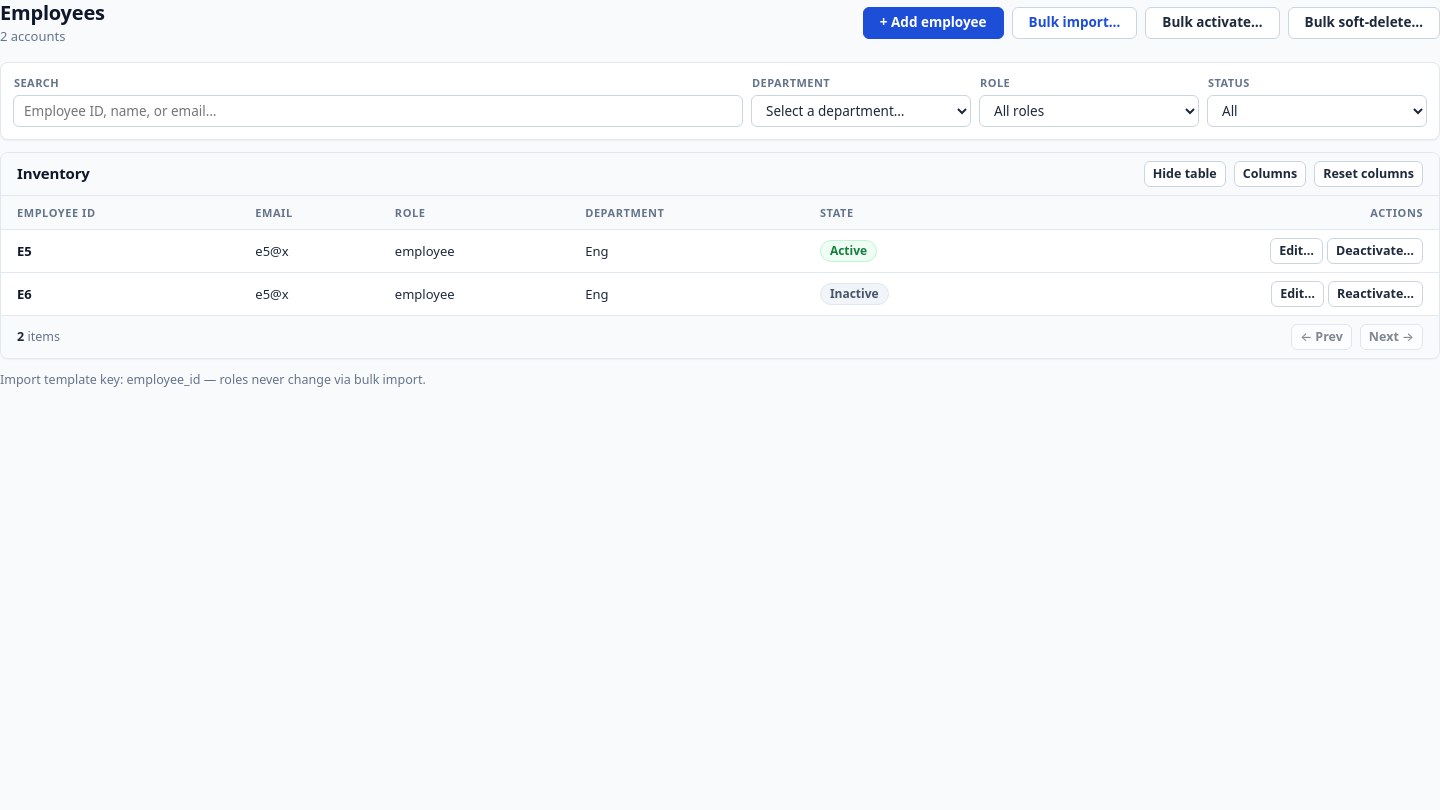
Users row actions › edits an employee from the prefilled modal and refreshes
The width and height of the screenshot is (1440, 810).
Check: the link "E5" is shown, box [17, 242, 32, 260]
Click the 1st button "Edit…" at coordinates (1296, 251), box [1270, 238, 1323, 264]
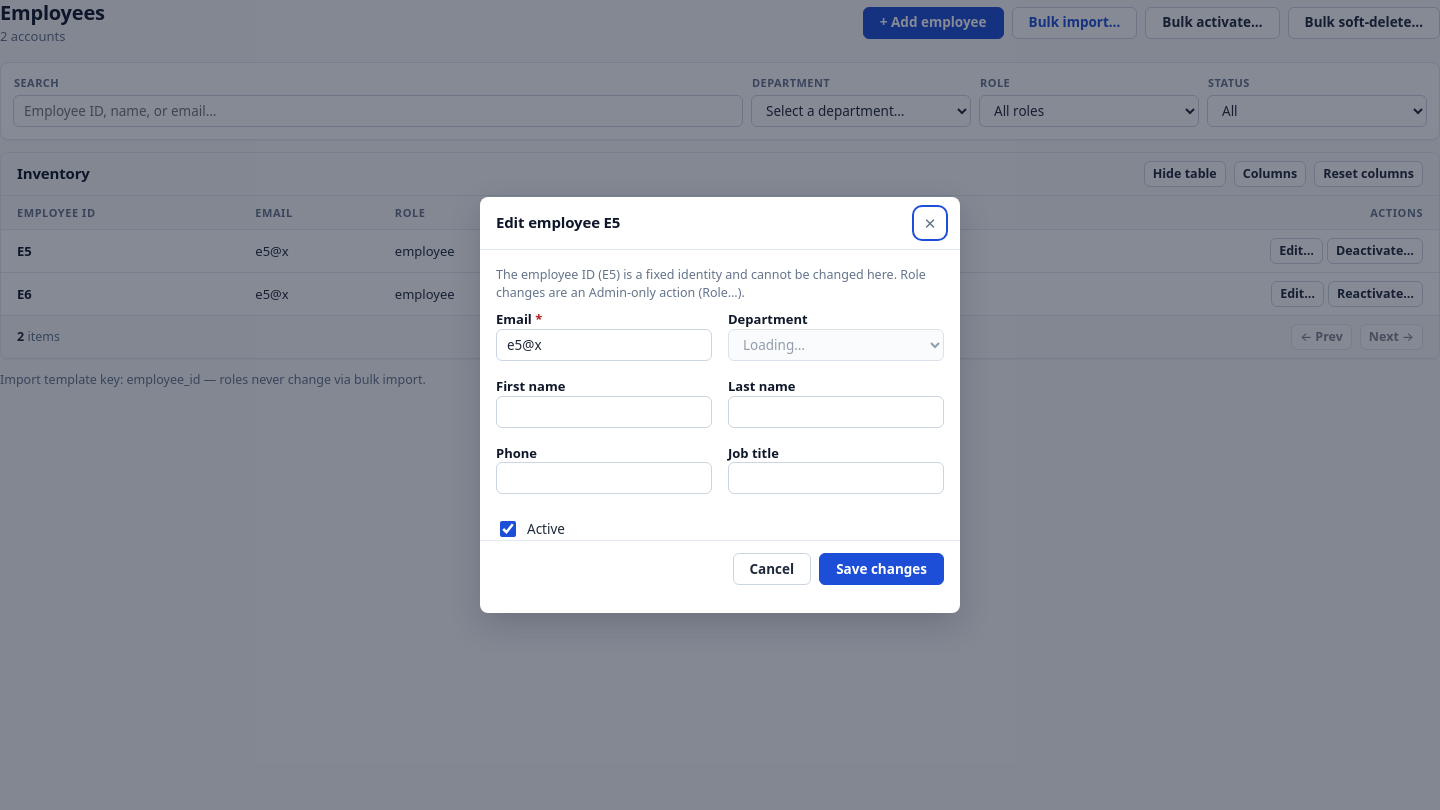
Check: the field labelled "Email *" holds "e5@x"
Replace the text in the field labelled "Email *" with "new@x" at coordinates (604, 345), box [496, 329, 712, 361]
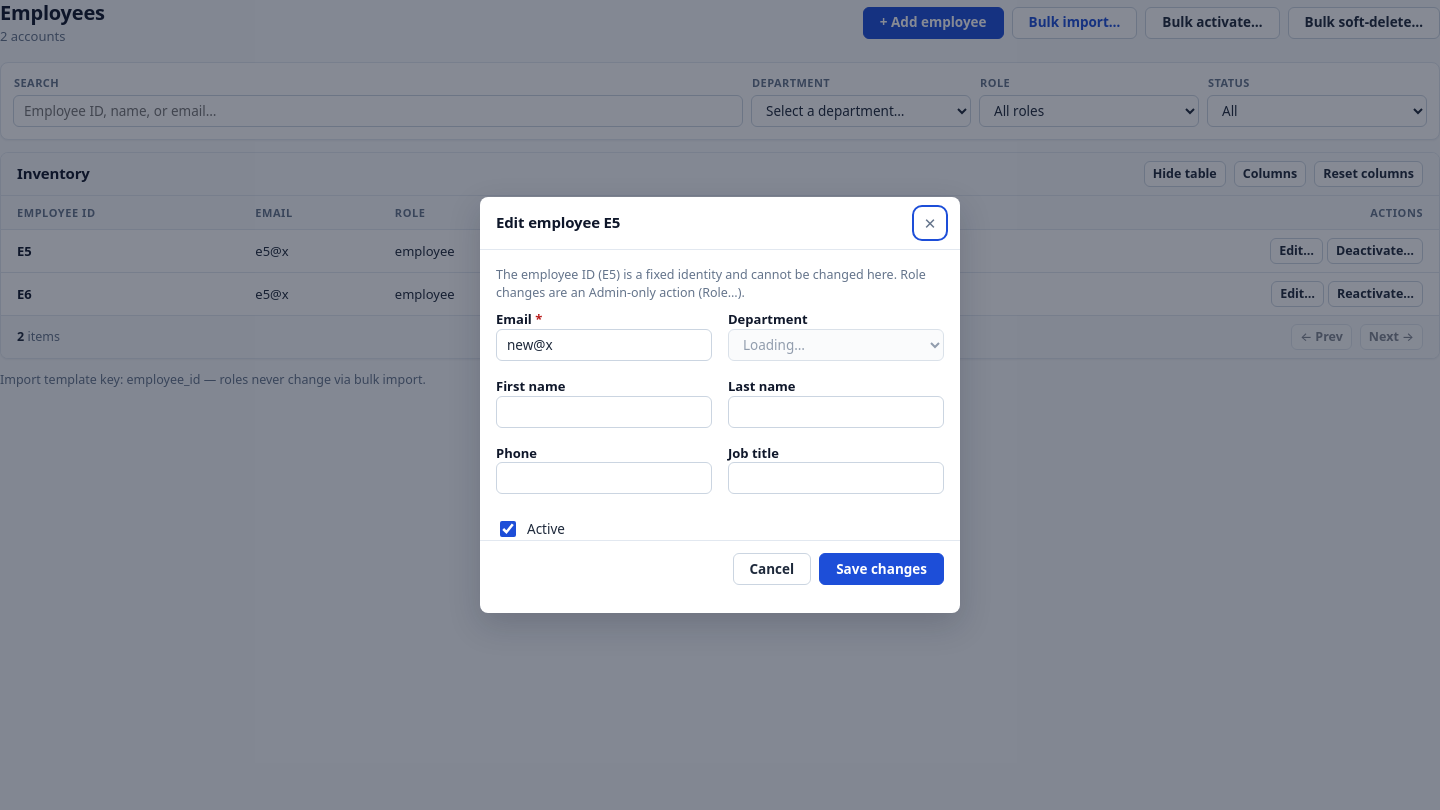
Type "Analyst" into the field labelled "Job title" at coordinates (836, 478), box [728, 462, 944, 494]
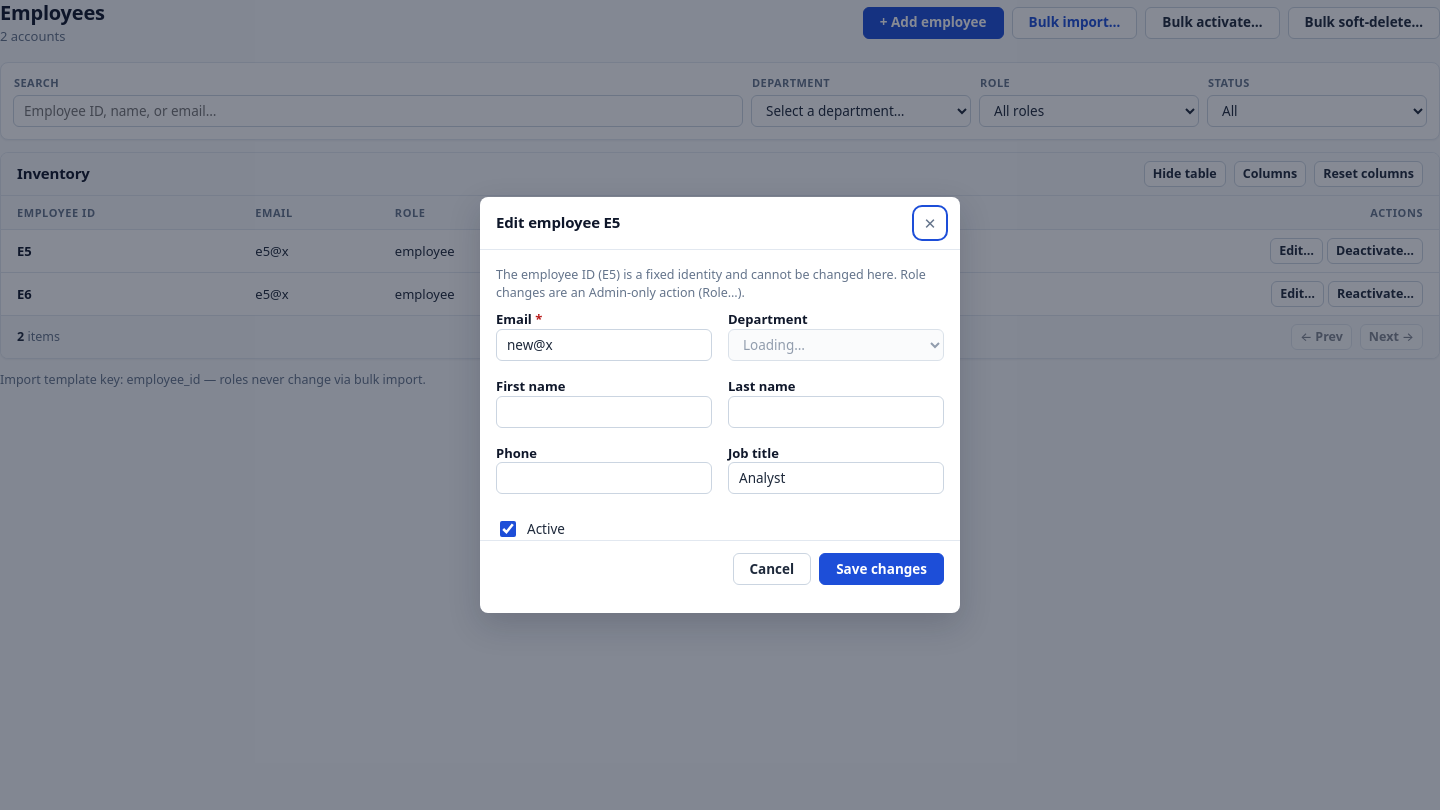
Click the button "Save changes" at coordinates (882, 569), box [819, 553, 944, 585]
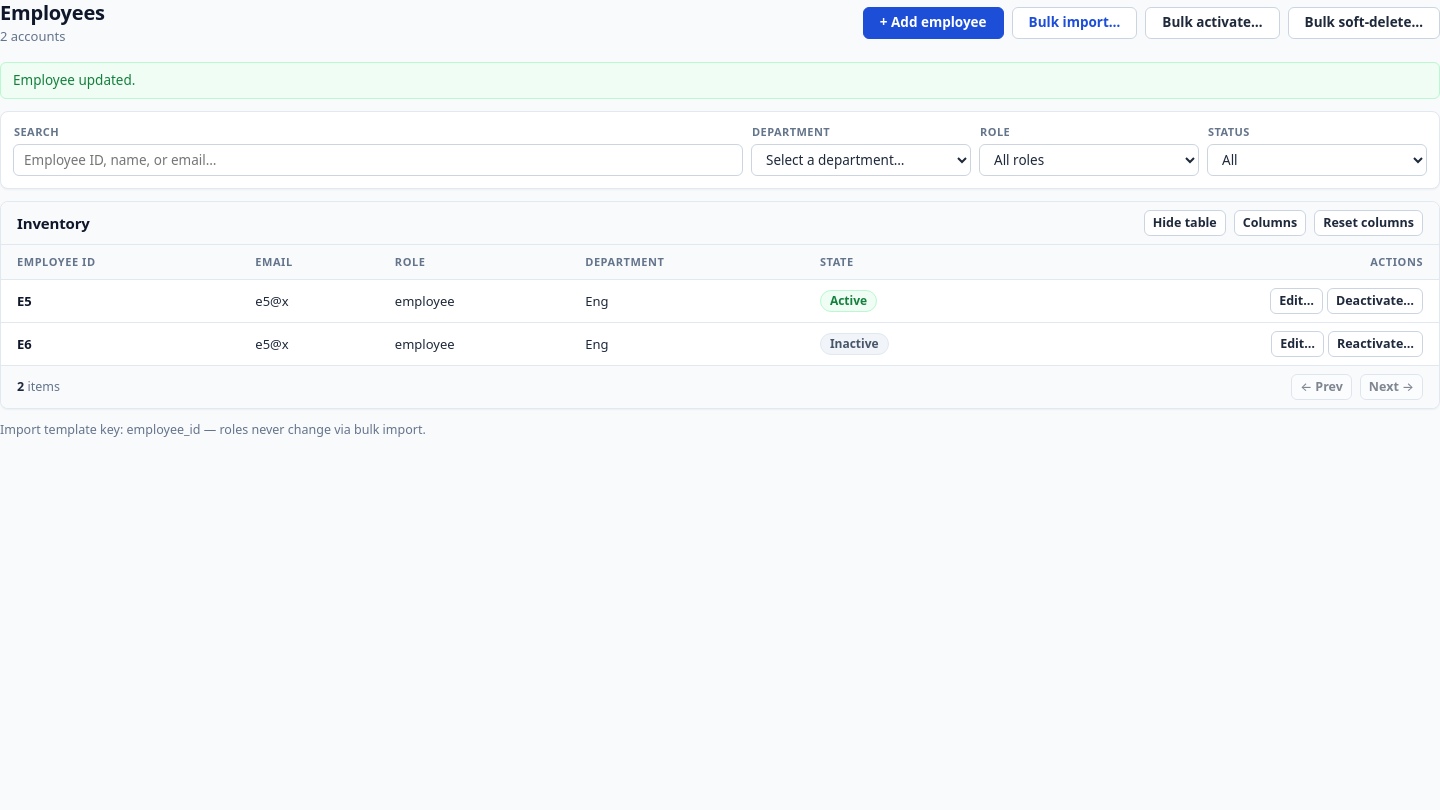
Check: the text "Employee updated." is shown, box [0, 62, 1439, 99]
